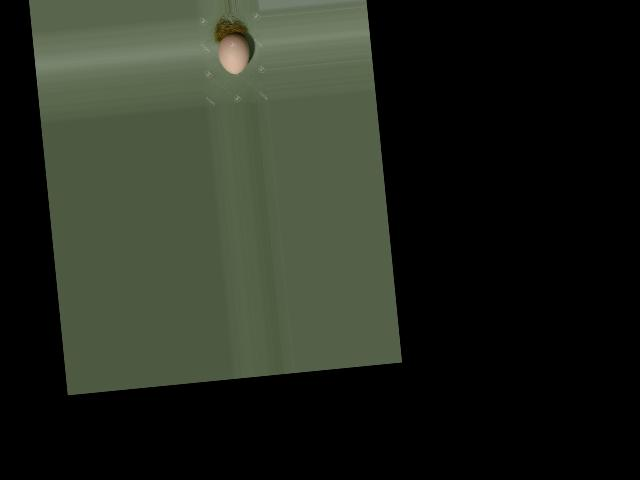egg: (216, 32, 251, 75)
